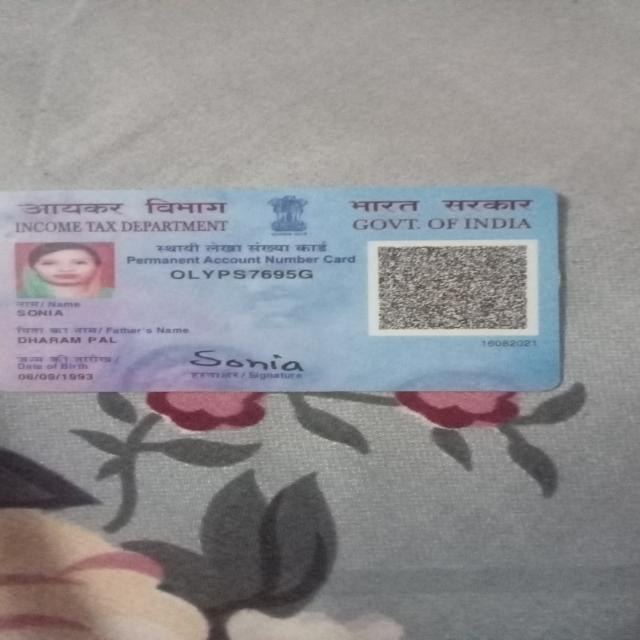pan_card: (0, 188, 564, 390)
